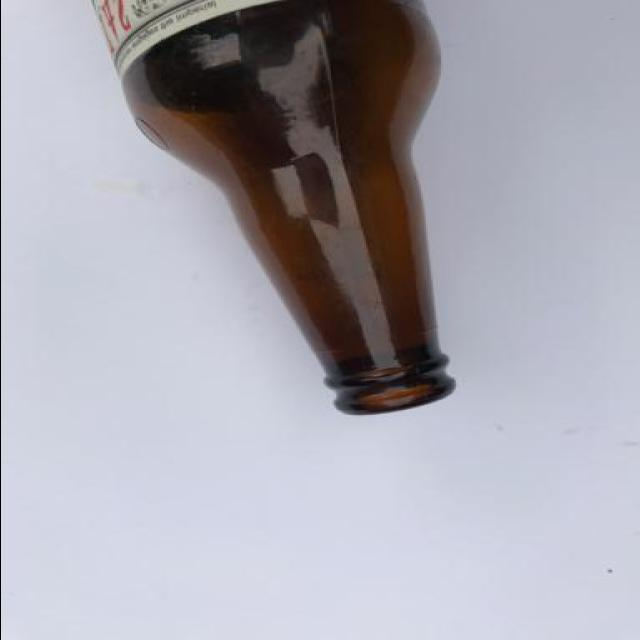glass: (85, 0, 475, 423)
